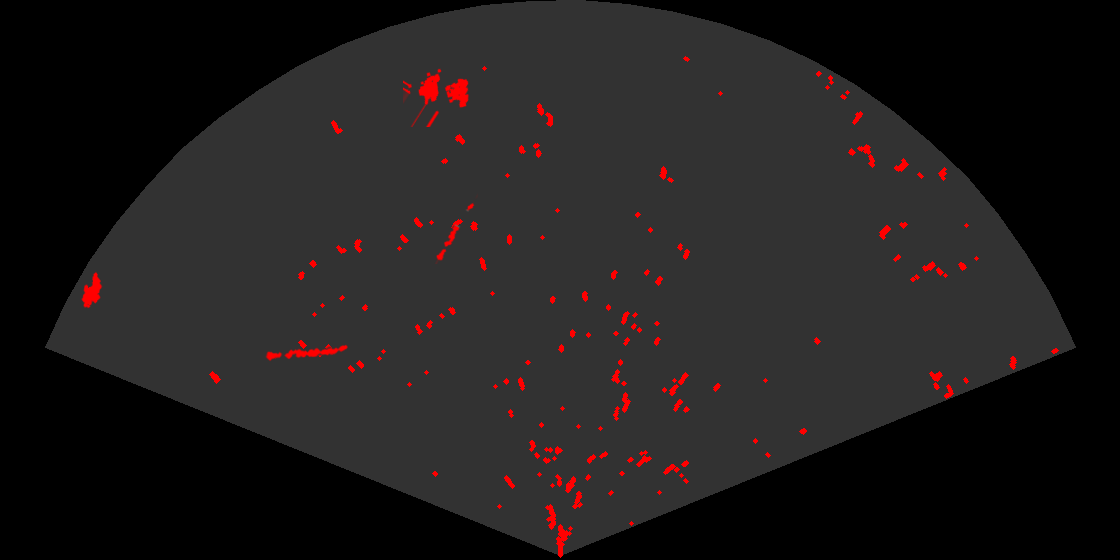AUV: (80, 270, 104, 310)
cage: (403, 67, 471, 127)
chain: (434, 193, 478, 264), (265, 343, 349, 363)
